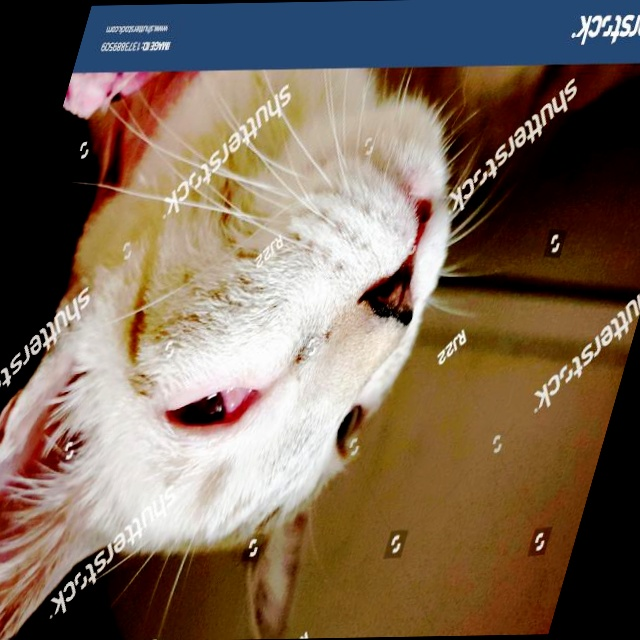eye_infection: (158, 382, 261, 438)
